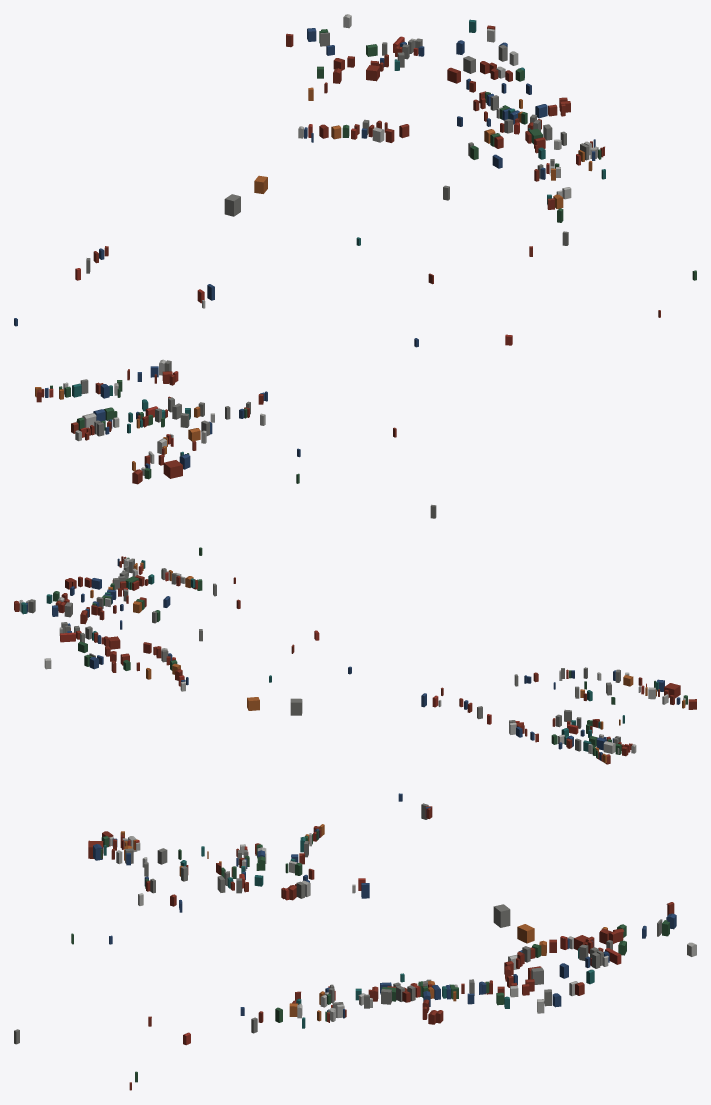
The model's file is near-15-27353-14872.e0660351.glb.
3 views of the same model, one above another, from view 1: azimuth 30°, elevation 25°; view 2: azimuth 150°, elevation 25°; view 3: azimuth 270°, elevation 25° (orthographic). The views are drawn at different scales.
Size of the model in its own units: 1191 by 425 by 1132.
